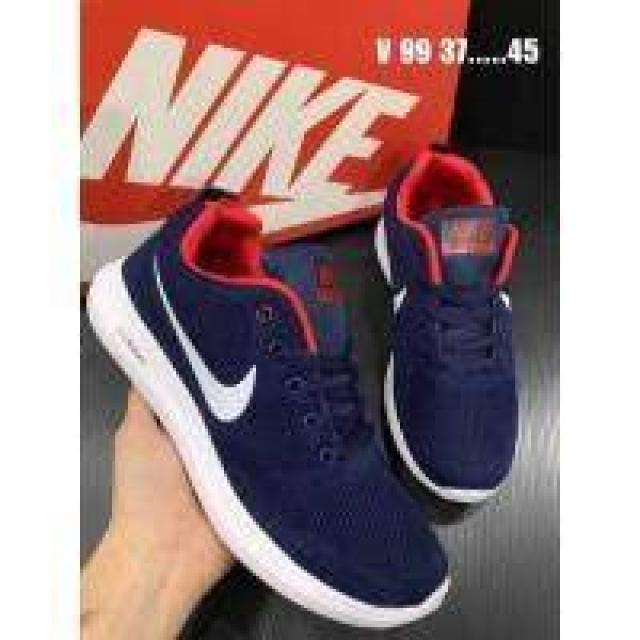shoes: (89, 156, 518, 623), (92, 189, 459, 622)
